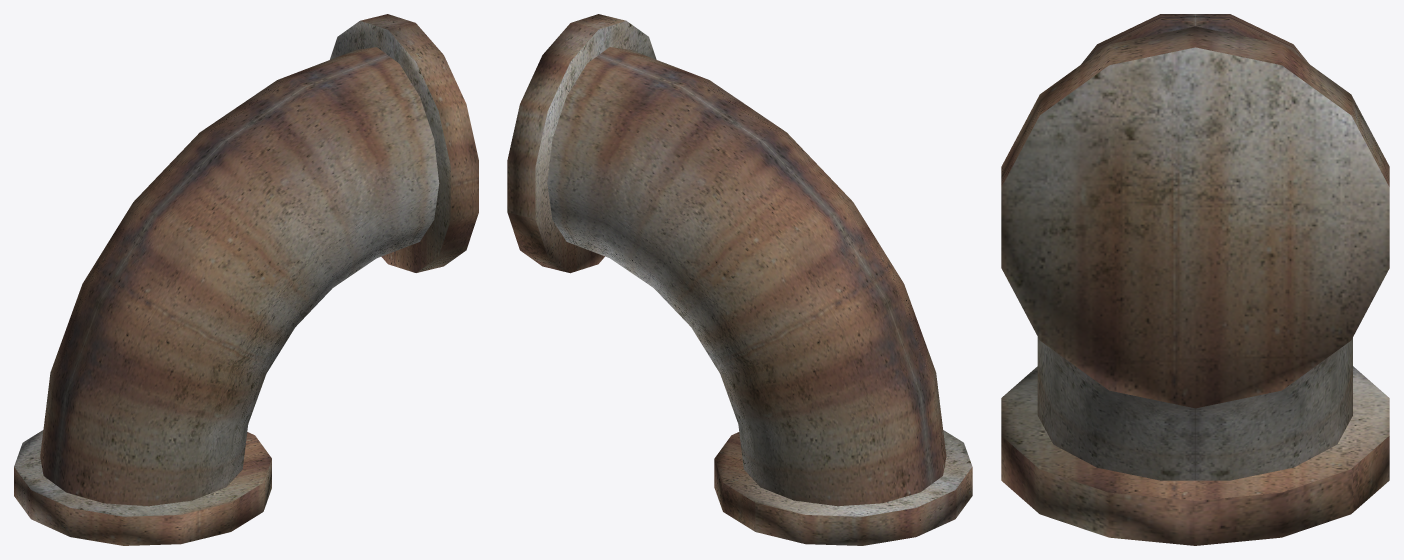
The model's file is pipe_9_lod1.obj.
3 views of the same model, side by side, from view 1: azimuth 30°, elevation 25°; view 2: azimuth 150°, elevation 25°; view 3: azimuth 270°, elevation 25° (orthographic). The views are drawn at different scales.
Parts seen in each view (by area): view 1: pipe_9_lod1.obj; view 2: pipe_9_lod1.obj; view 3: pipe_9_lod1.obj.
Boxes of the visible parts, x1,y1,x2,y2 form: pipe_9_lod1.obj: (14, 14, 478, 545); pipe_9_lod1.obj: (507, 14, 972, 545); pipe_9_lod1.obj: (1001, 14, 1389, 545).
Size of the model in its own units: 2.14 by 2.14 by 1.22.
1 material, 1 textured.
